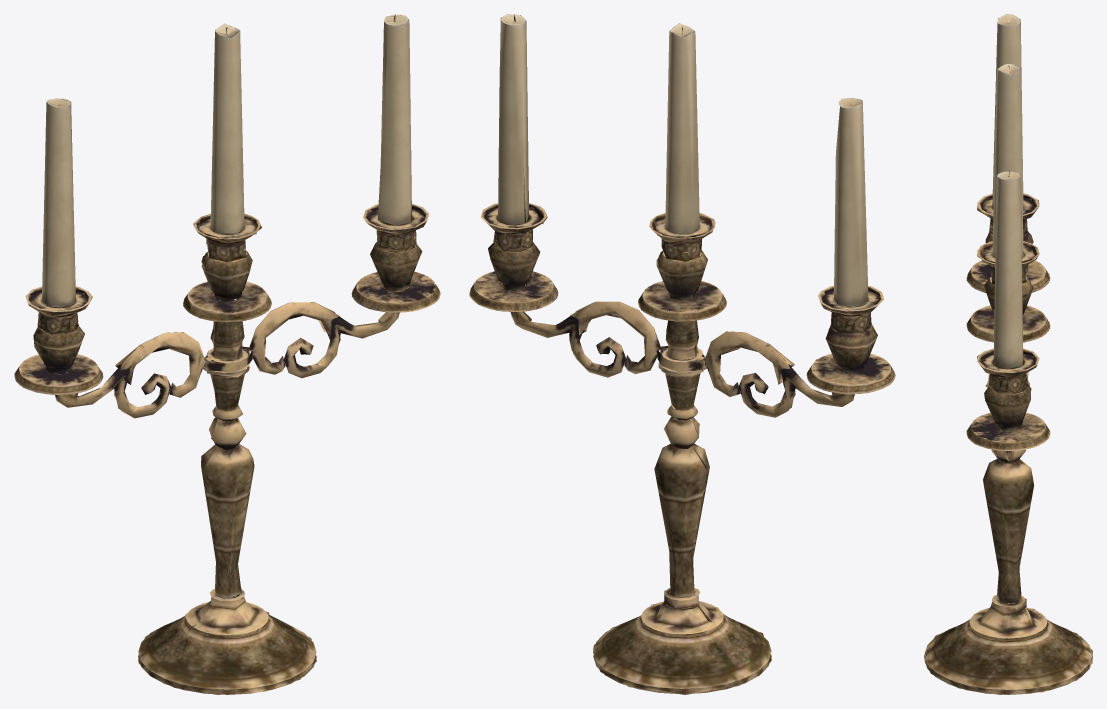
Rendered from candleholders.glb.
The picture shows the model from 3 angles, left to right: view 1: azimuth 30°, elevation 25°; view 2: azimuth 150°, elevation 25°; view 3: azimuth 270°, elevation 25°; orthographic projection. The views are drawn at different scales.
Parts seen in each view (by area): view 1: brass_candleholder_02; view 2: brass_candleholder_02; view 3: brass_candleholder_02.
Part boxes in pixels (x1,y1,x2,y2): brass_candleholder_02: [14, 14, 440, 694]; brass_candleholder_02: [469, 14, 895, 694]; brass_candleholder_02: [924, 14, 1092, 694].
Bounding box in the file's own units: 0.2611 × 0.3795 × 0.0976.
Materials: 2 (2 with a texture image).
